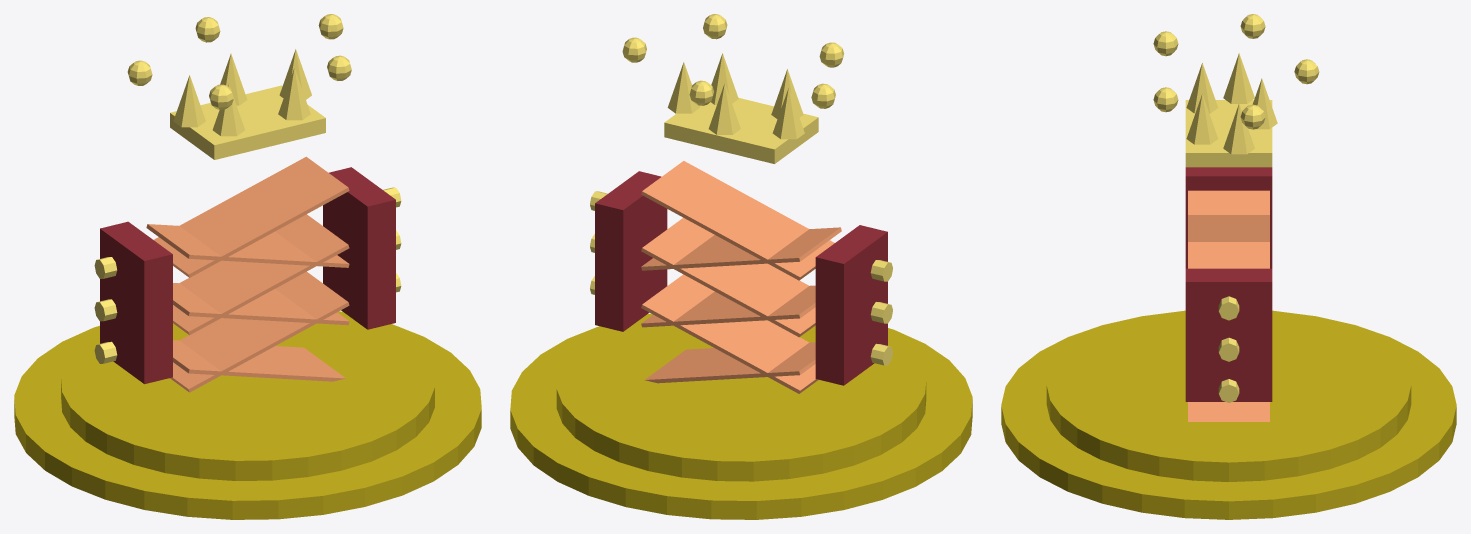
Rendered from trophy_rei.glb.
The picture shows the model from 3 angles, left to right: view 1: azimuth 30°, elevation 25°; view 2: azimuth 150°, elevation 25°; view 3: azimuth 270°, elevation 25°; orthographic projection. The views are drawn at different scales.
Visible parts, largest first — view 1: Ped1, Ped2, LeftPlate, RightPlate, Fold_5, Fold_3, Fold_1, CrownBand, Fold_0, Fold_4, Fold_2, CrownPoint_2 (+4 smaller); view 2: Ped1, Ped2, LeftPlate, RightPlate, Fold_5, Fold_1, Fold_3, CrownBand, Fold_0, Fold_4, Fold_2, CrownPoint_4 (+4 smaller); view 3: Ped1, Ped2, RightPlate, Fold_4, CrownBand, LeftPlate, Fold_5, Fold_0, CrownPoint_2, CrownPoint_4, CrownPoint_1, CrownPoint_3 (+1 smaller).
Part boxes in pixels (box(x1,y1,x2,y2)): Ped1: box(61, 313, 434, 480); Ped2: box(14, 311, 481, 519); LeftPlate: box(100, 221, 172, 384); RightPlate: box(323, 167, 395, 329); Fold_5: box(154, 156, 349, 277); Fold_3: box(173, 214, 349, 335); Fold_1: box(170, 271, 349, 392); CrownBand: box(170, 85, 325, 159); Fold_0: box(173, 340, 345, 381); Fold_4: box(146, 224, 349, 267); Fold_2: box(173, 283, 349, 325); CrownPoint_2: box(278, 68, 310, 120); Ped1: box(556, 315, 926, 481); Ped2: box(510, 313, 972, 519); LeftPlate: box(815, 225, 887, 385); RightPlate: box(595, 171, 667, 331); Fold_5: box(641, 161, 834, 280); Fold_1: box(641, 274, 818, 393); Fold_3: box(641, 218, 815, 337); CrownBand: box(664, 97, 818, 163); Fold_0: box(645, 342, 815, 383); Fold_4: box(641, 227, 841, 270); Fold_2: box(641, 285, 815, 327); CrownPoint_4: box(772, 87, 804, 139); Ped1: box(1046, 311, 1411, 481); Ped2: box(1001, 310, 1456, 519); RightPlate: box(1185, 268, 1272, 401); Fold_4: box(1188, 190, 1269, 268); CrownBand: box(1185, 100, 1272, 167); LeftPlate: box(1185, 167, 1272, 268); Fold_5: box(1188, 215, 1269, 241); Fold_0: box(1188, 402, 1269, 421); CrownPoint_2: box(1186, 94, 1218, 144); CrownPoint_4: box(1223, 53, 1254, 103); CrownPoint_1: box(1223, 103, 1254, 154); CrownPoint_3: box(1186, 63, 1218, 113).
Size of the model in its own units: 2 by 1.76 by 2.
